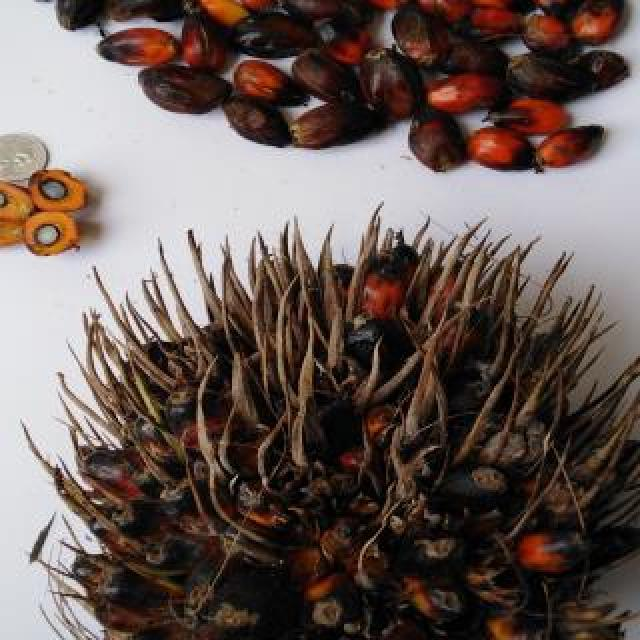Unripe: (68, 292, 640, 640)
